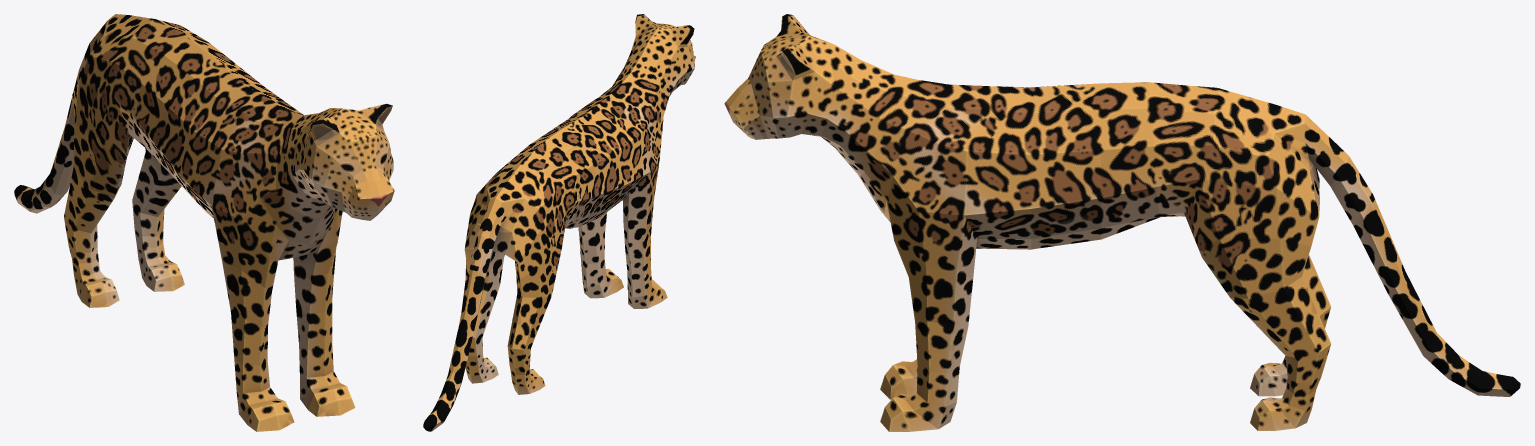
File: jaguar.glb
The picture shows the model from 3 angles, left to right: view 1: azimuth 30°, elevation 25°; view 2: azimuth 150°, elevation 25°; view 3: azimuth 270°, elevation 25°; orthographic projection. The views are drawn at different scales.
Parts seen in each view (by area): view 1: Jaguar_mesh; view 2: Jaguar_mesh; view 3: Jaguar_mesh.
Boxes of the visible parts, x1,y1,x2,y2 form: Jaguar_mesh: [14, 14, 394, 431]; Jaguar_mesh: [423, 14, 695, 431]; Jaguar_mesh: [724, 14, 1520, 431].
Bounding box in the file's own units: 2.51 × 6.84 × 13.22.
1 material, 1 textured.
